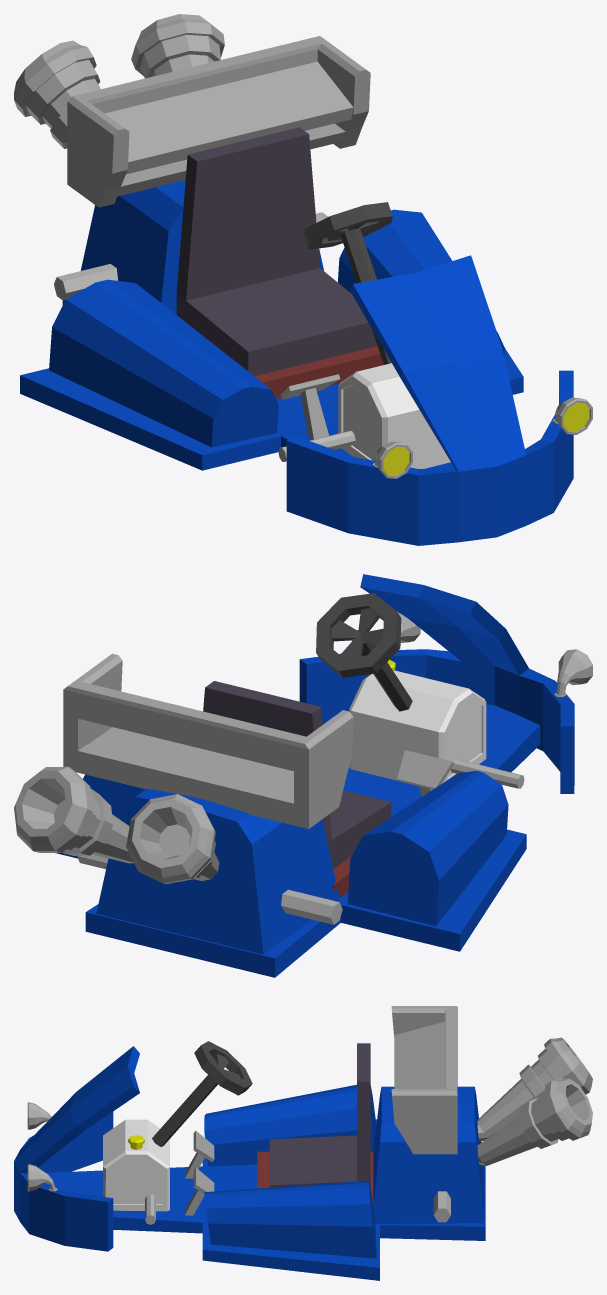
Rendered from ege_7.fbx.
The picture shows the model from 3 angles, top to bottom: view 1: azimuth 30°, elevation 25°; view 2: azimuth 150°, elevation 25°; view 3: azimuth 270°, elevation 25°; orthographic projection. The views are drawn at different scales.
Parts seen in each view (by area): view 1: ege_car7:group10KartPlataform1, ege_car7:group10Hood1, ege_car7:group10Chair1, ege_car7:group10Mesh2, ege_car7:catalaysgroup10, ege_car7:group10SteeringWheel1, ege_car7:group10Lights_Kart1, ege_car7:group10Pedals1; view 2: ege_car7:group10KartPlataform1, ege_car7:group10Mesh2, ege_car7:group10Hood1, ege_car7:catalaysgroup10, ege_car7:group10Chair1, ege_car7:group10SteeringWheel1, ege_car7:group10Lights_Kart1, ege_car7:group10Pedals1; view 3: ege_car7:group10KartPlataform1, ege_car7:group10Hood1, ege_car7:group10Mesh2, ege_car7:catalaysgroup10, ege_car7:group10Chair1, ege_car7:group10SteeringWheel1, ege_car7:group10Pedals1, ege_car7:group10Lights_Kart1.
Boxes of the visible parts, <box> form: ege_car7:group10KartPlataform1: <box>20,180,523,470</box>; ege_car7:group10Hood1: <box>286,255,573,545</box>; ege_car7:group10Chair1: <box>176,127,383,398</box>; ege_car7:group10Mesh2: <box>67,36,370,207</box>; ege_car7:catalaysgroup10: <box>14,14,224,148</box>; ege_car7:group10SteeringWheel1: <box>303,202,392,364</box>; ege_car7:group10Lights_Kart1: <box>372,397,592,478</box>; ege_car7:group10Pedals1: <box>280,374,340,439</box>; ege_car7:group10KartPlataform1: <box>56,659,540,977</box>; ege_car7:group10Mesh2: <box>63,653,353,828</box>; ege_car7:group10Hood1: <box>299,574,574,793</box>; ege_car7:catalaysgroup10: <box>14,766,219,884</box>; ege_car7:group10Chair1: <box>203,681,391,897</box>; ege_car7:group10SteeringWheel1: <box>316,593,412,711</box>; ege_car7:group10Lights_Kart1: <box>397,611,592,696</box>; ege_car7:group10Pedals1: <box>397,750,454,796</box>; ege_car7:group10KartPlataform1: <box>45,1084,485,1280</box>; ege_car7:group10Hood1: <box>14,1046,139,1251</box>; ege_car7:group10Mesh2: <box>391,1006,457,1154</box>; ege_car7:catalaysgroup10: <box>477,1037,592,1165</box>; ege_car7:group10Chair1: <box>257,1043,373,1206</box>; ege_car7:group10SteeringWheel1: <box>152,1041,252,1146</box>; ege_car7:group10Pedals1: <box>185,1131,214,1215</box>; ege_car7:group10Lights_Kart1: <box>27,1102,57,1191</box>.
Bounding box in the file's own units: 1053 × 550 × 1729.
